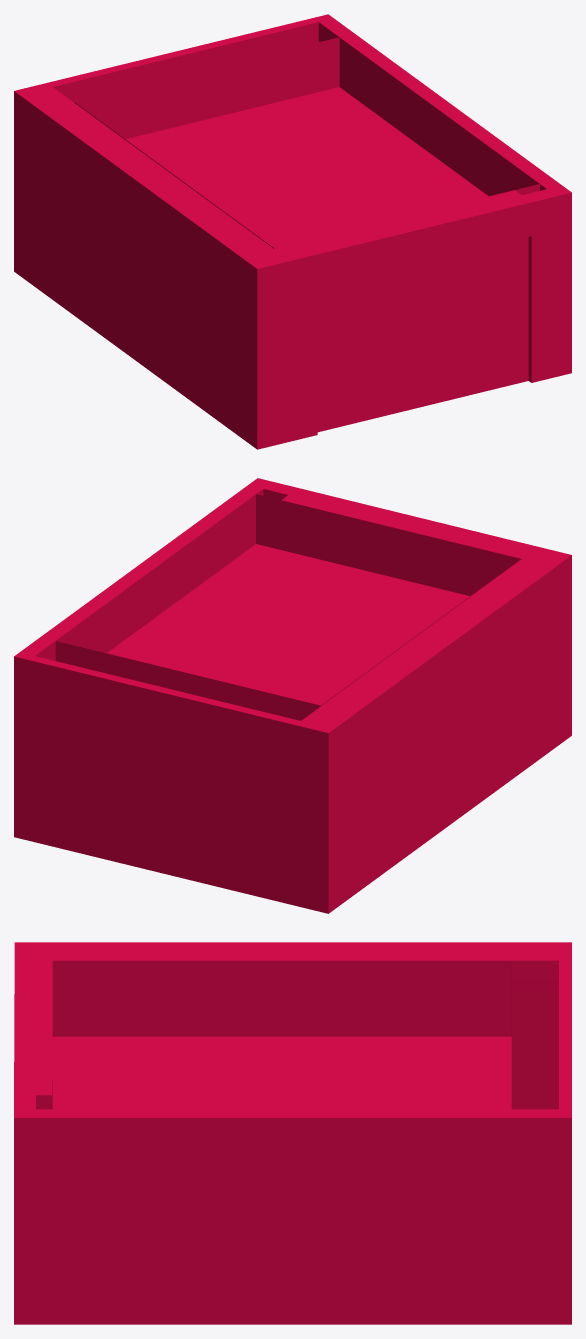
Rendered from Blockable.fbx.
The picture shows the model from 3 angles, top to bottom: view 1: azimuth 30°, elevation 25°; view 2: azimuth 150°, elevation 25°; view 3: azimuth 270°, elevation 25°; orthographic projection. The views are drawn at different scales.
Parts seen in each view (by area): view 1: polySurface474, polySurface475, polySurface480, polySurface482, polySurface479; view 2: polySurface474, polySurface475, polySurface479, polySurface481, polySurface483, polySurface482; view 3: polySurface474, polySurface475, polySurface482, polySurface479, polySurface481.
Boxes of the visible parts, <box> form: polySurface474: <box>14,14,571,449</box>; polySurface475: <box>74,37,539,248</box>; polySurface480: <box>317,237,528,432</box>; polySurface482: <box>178,125,314,174</box>; polySurface479: <box>263,176,331,214</box>; polySurface474: <box>14,478,571,913</box>; polySurface475: <box>55,494,521,720</box>; polySurface479: <box>260,632,333,670</box>; polySurface481: <box>360,594,423,626</box>; polySurface483: <box>192,584,267,614</box>; polySurface482: <box>188,668,299,698</box>; polySurface474: <box>14,942,571,1324</box>; polySurface475: <box>52,961,511,1109</box>; polySurface482: <box>379,1062,453,1109</box>; polySurface479: <box>230,1079,330,1094</box>; polySurface481: <box>95,1062,168,1080</box>.
Bounding box in the file's own units: 706 × 390 × 947.
